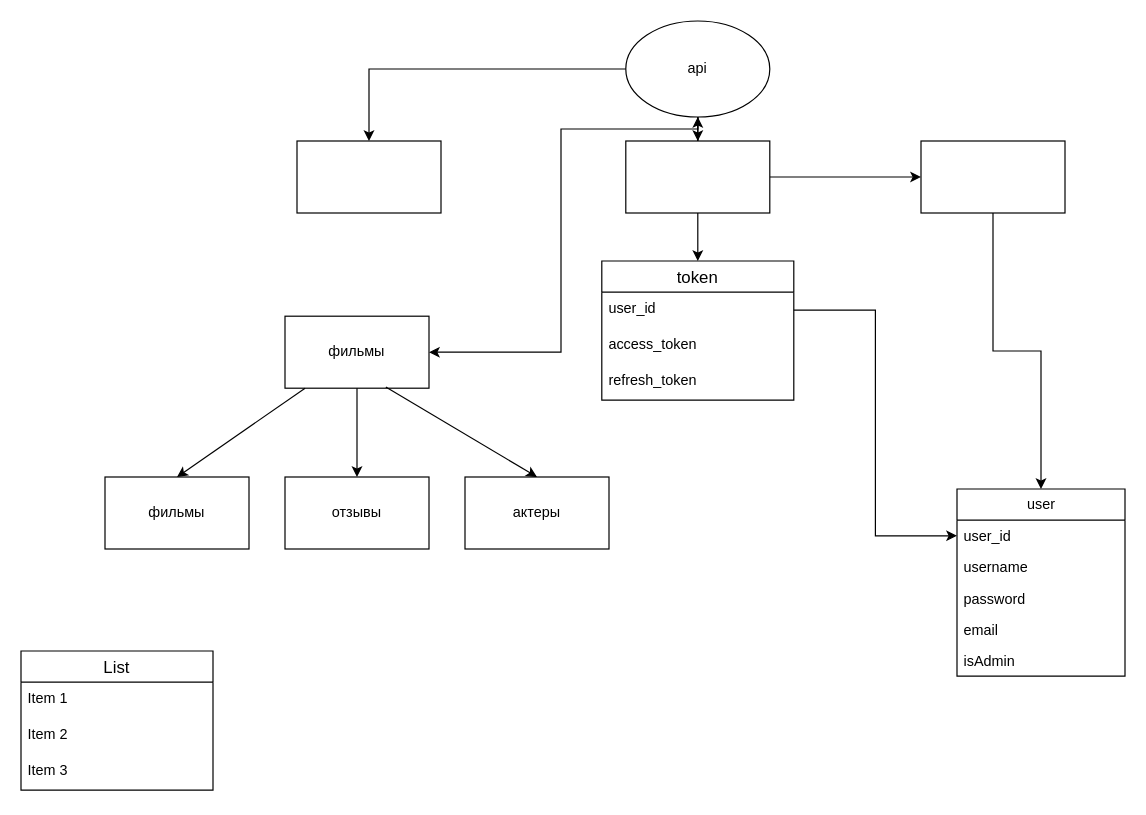
This 1146x815 diagram has some shape labels left out. Here are the shapes that lost their labels. From the top down, the centre of each, then its label:
(x=368, y=176): админка(методы админов)
(x=697, y=176): авторизация
(x=992, y=176): пользователи
